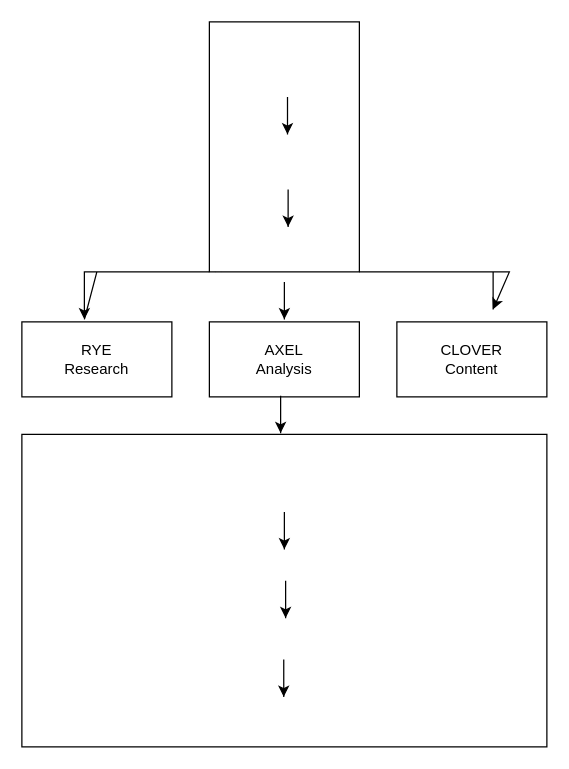
This 569x769 diagram has some shape labels left out. The centre of each missing label's shape, as x and y in pixels:
CORA Coordinator QUINN Quality Review HIVEMIND Final Synthesis FINAL DELIVERABLE: point 284,590
KEEPER Human Operator HIVEMIND Strategic Planner DAG PLAN: point 283,146
